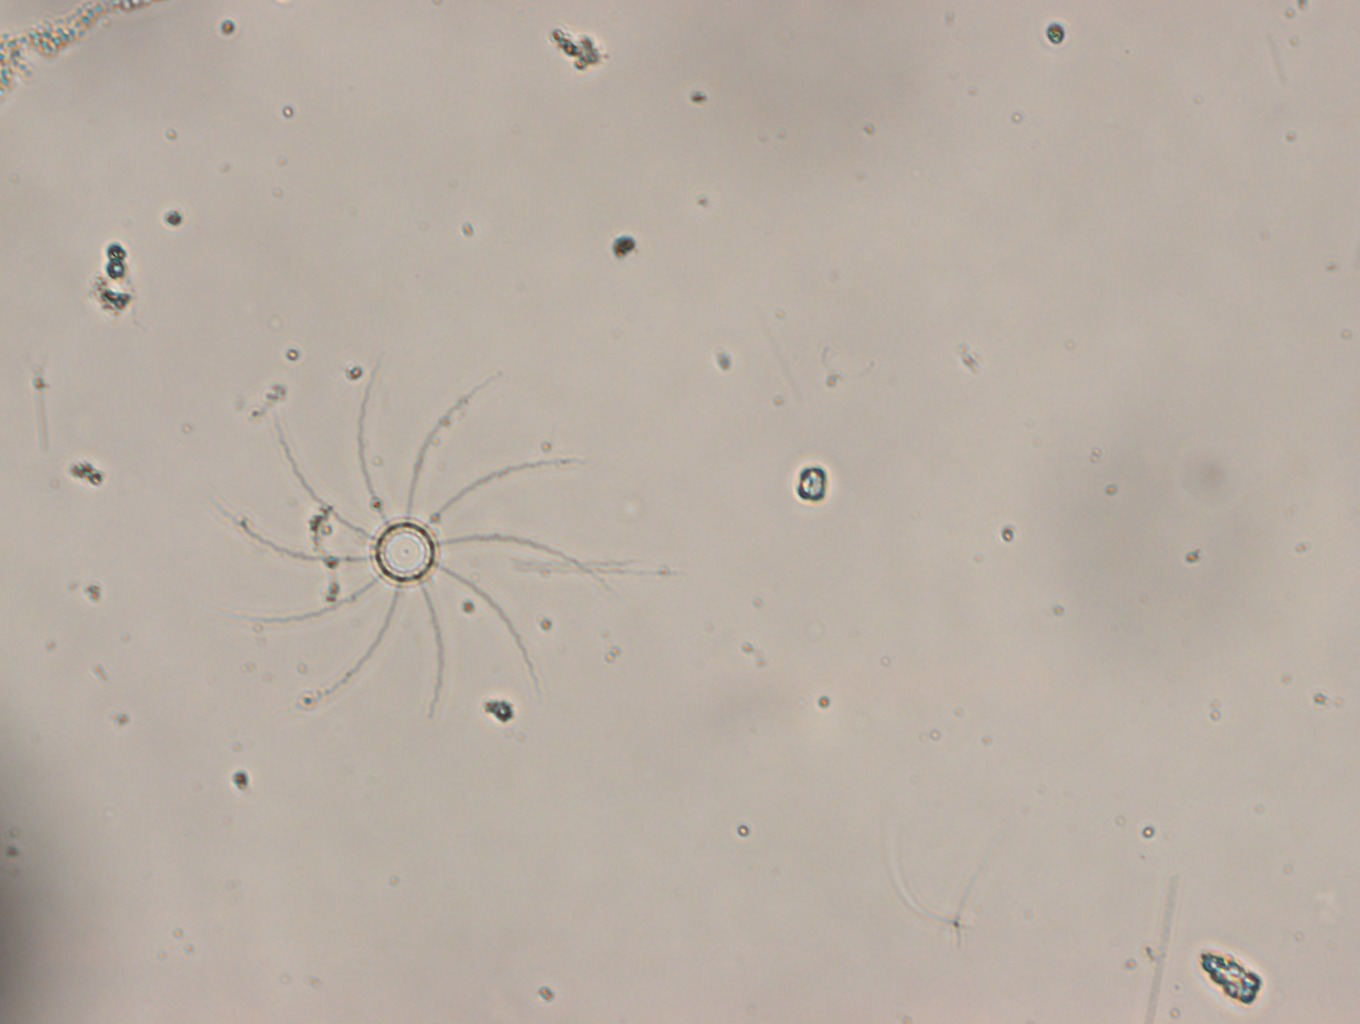bacteriastrum: (212, 355, 609, 725)
